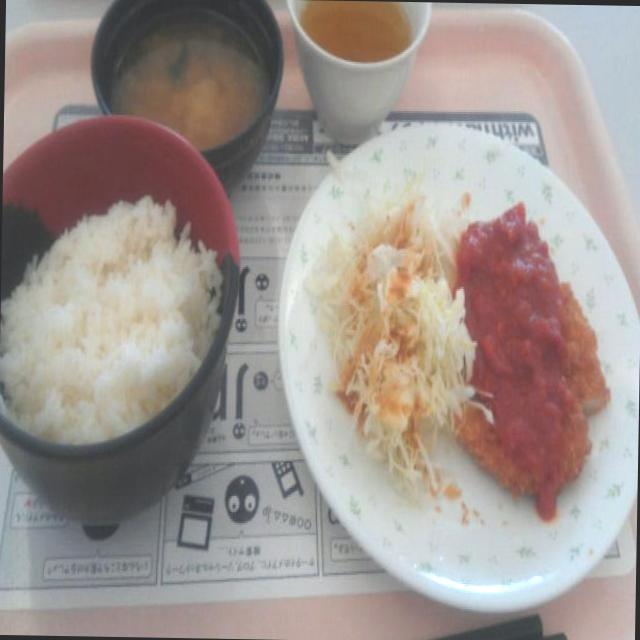Rice: (0, 180, 226, 445)
